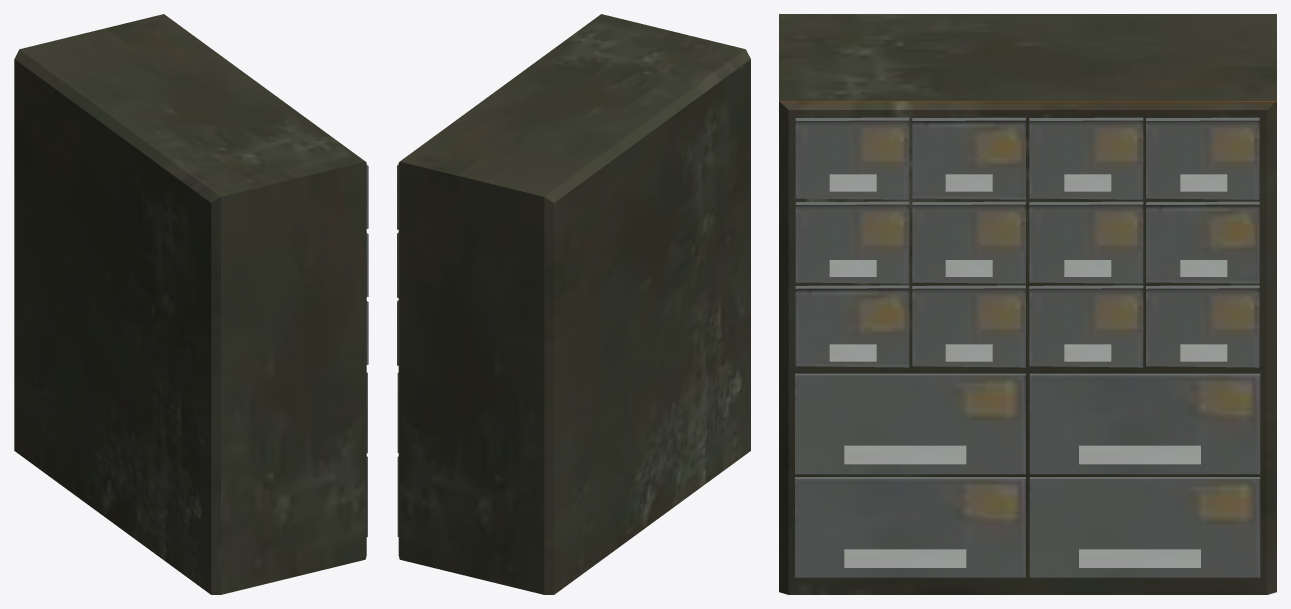
File: partsbin01.glb
3 views of the same model, side by side, from view 1: azimuth 30°, elevation 25°; view 2: azimuth 150°, elevation 25°; view 3: azimuth 270°, elevation 25° (orthographic). The views are drawn at different scales.
Parts seen in each view (by area): view 1: 0_lab_objects01; view 2: 0_lab_objects01; view 3: 0_lab_objects01.
Part boxes in pixels (x1=…): 0_lab_objects01: x1=14, y1=14, x2=368, y2=594; 0_lab_objects01: x1=397, y1=14, x2=750, y2=594; 0_lab_objects01: x1=779, y1=14, x2=1276, y2=594.
Size of the model in its own units: 0.2989 by 0.6566 by 0.603.
Materials: 1 (1 with a texture image).
